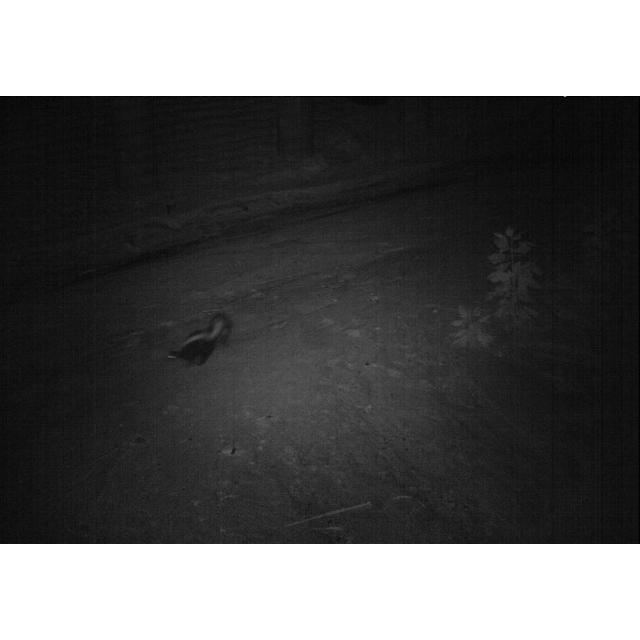animals: (165, 306, 235, 372)
